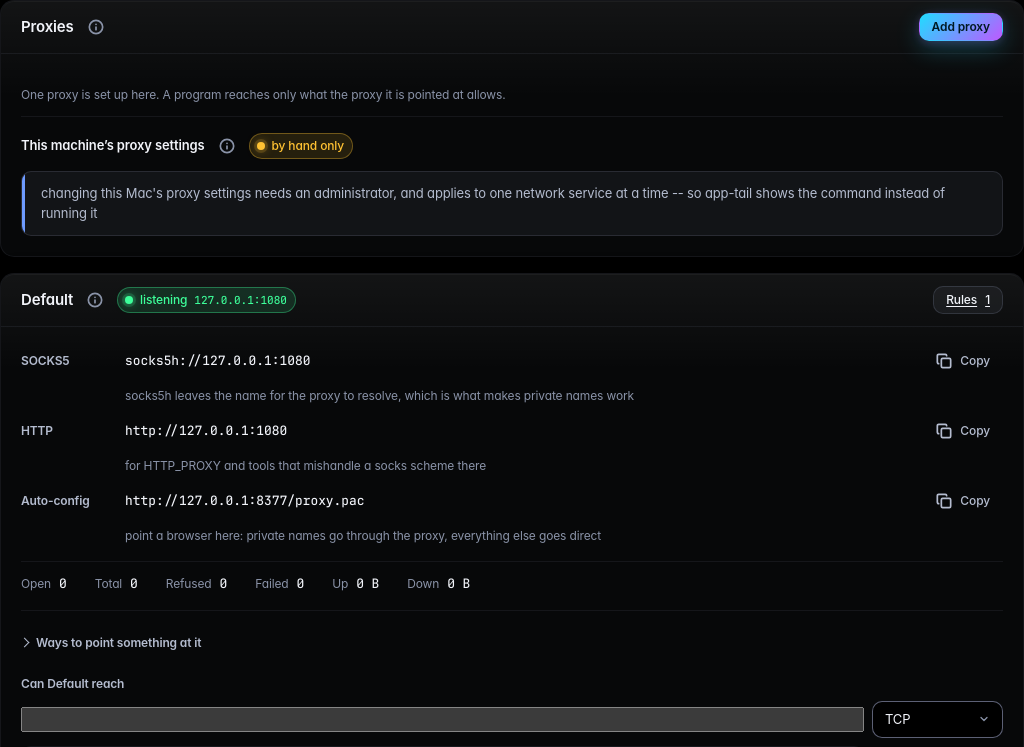
the proxies › keeps the add form open with the reason when the agent refuses
Click the button "Add proxy": [961, 27] box [919,13,1003,41]
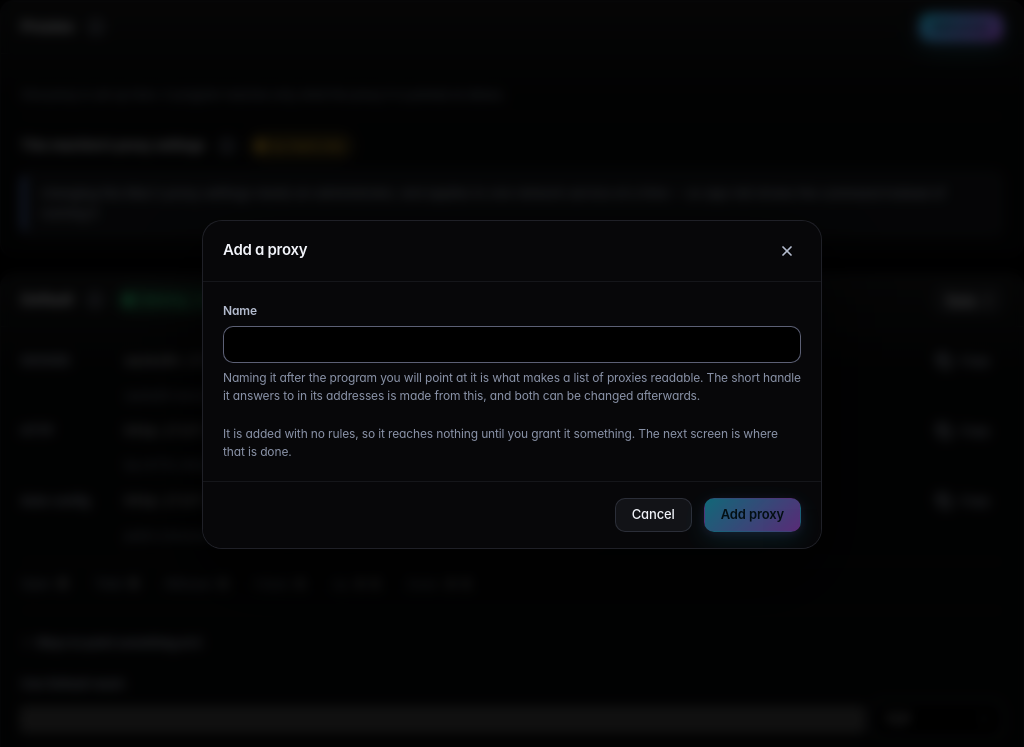
In the field labelled "Name": [512, 344] box [223,326,801,363], type "psql"
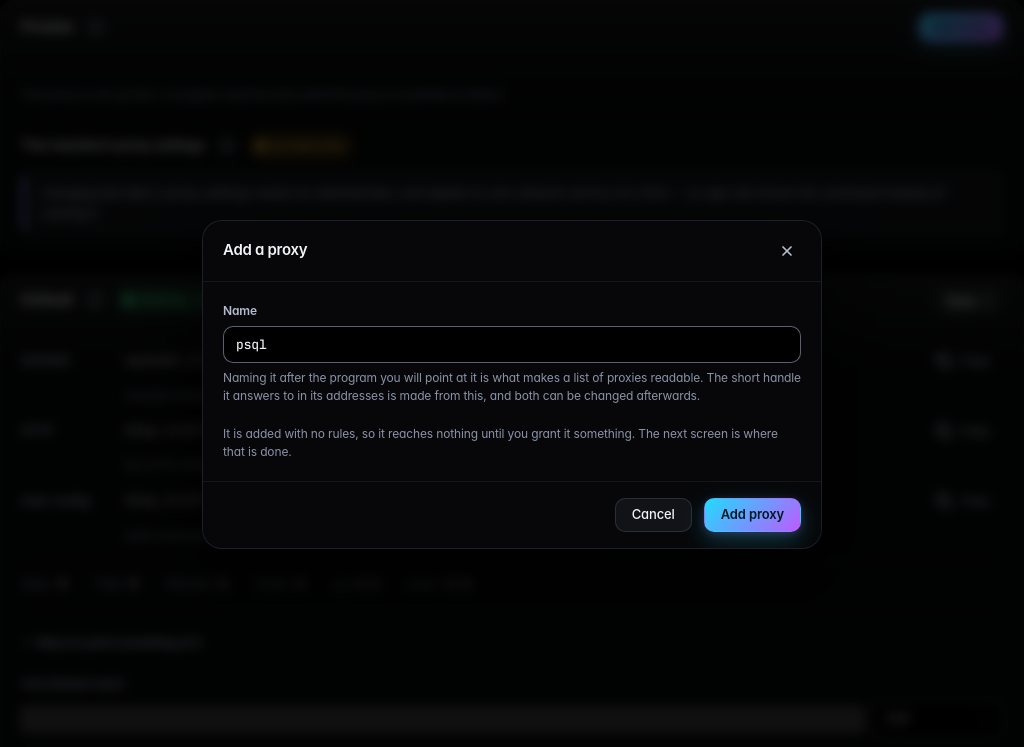
Click the button "Add proxy": [752, 515] box [704,498,801,532]
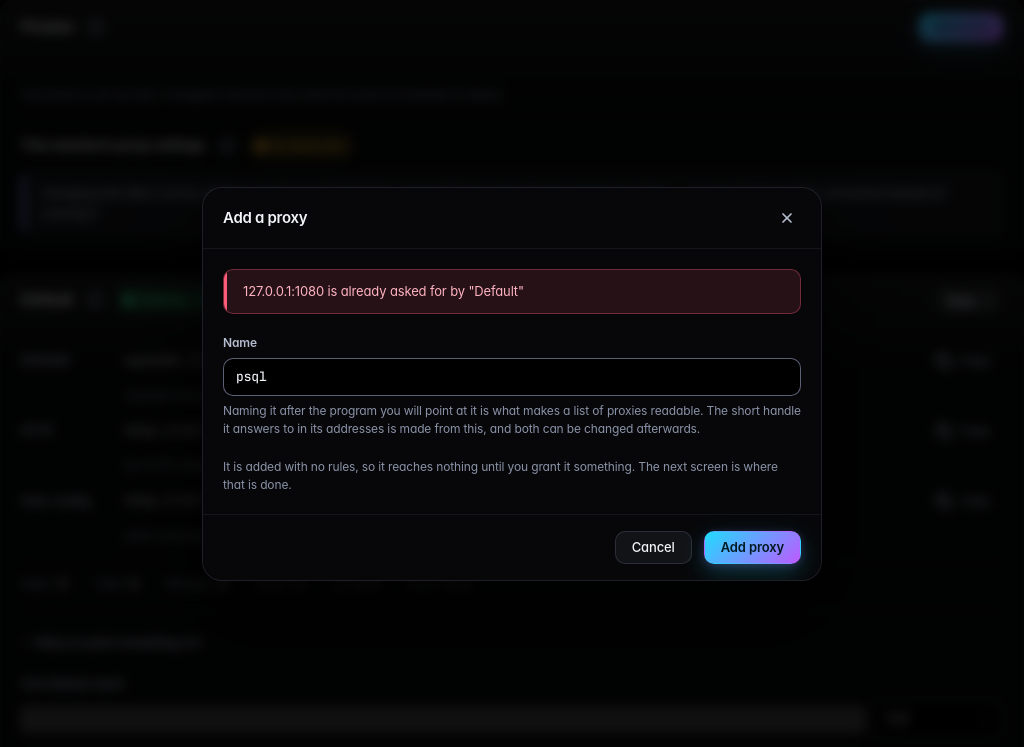
Now the dialog "Add a proxy" is shown, box [202,187,822,581]
Now the text "127.0.0.1:1080 is already asked for by \"Default\"" is shown, box [223,269,801,314]
